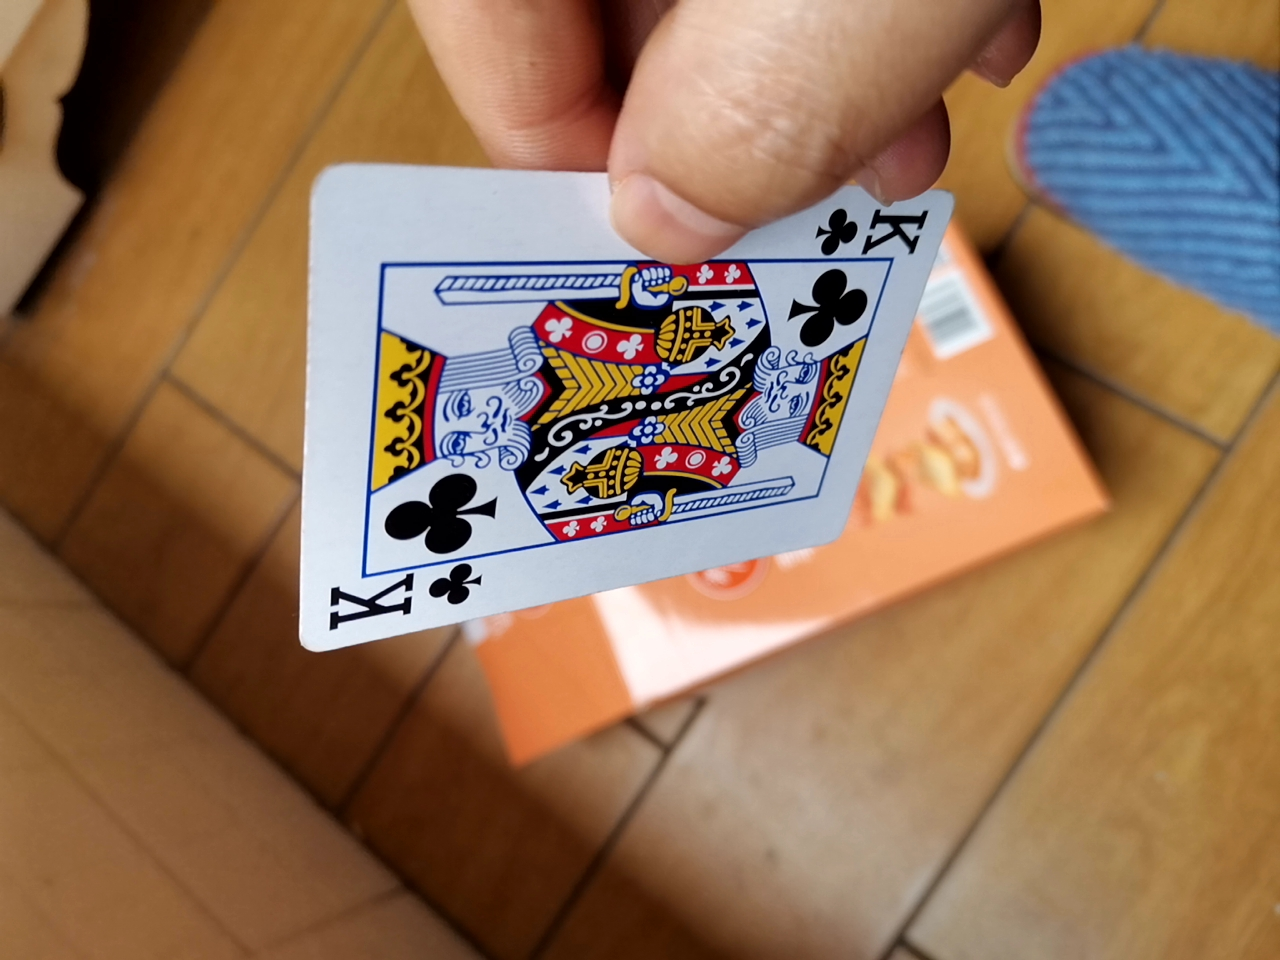mh k: (278, 162, 956, 687)
